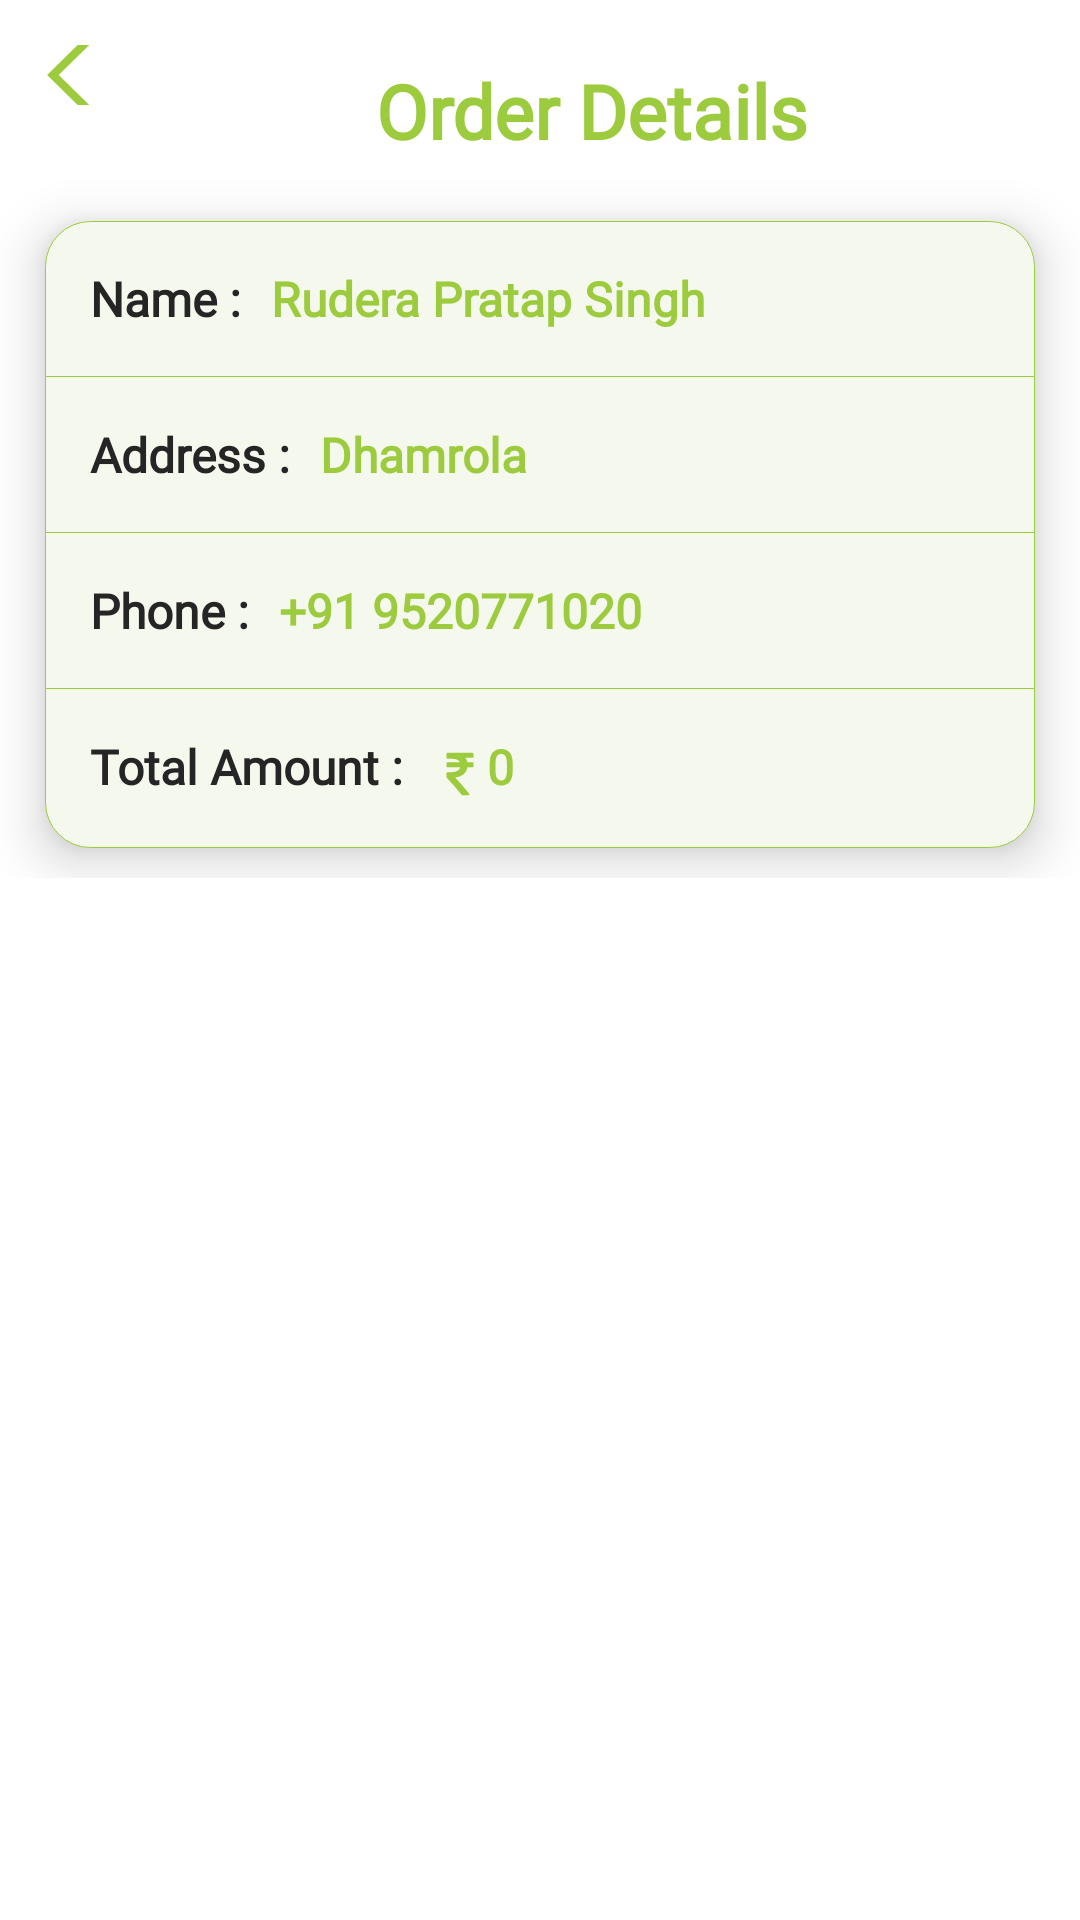

Named icons in this screenshot (1080px x 1920px) and their bounding boxes, bbox=[x1, y1, x2, y2]:
backarrow: bbox=[47, 45, 89, 105]
rupee: bbox=[446, 752, 474, 796]
